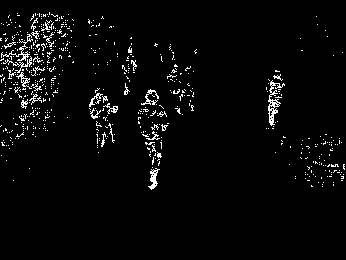person: (133, 90, 168, 192), (85, 87, 120, 158), (262, 66, 294, 130)
